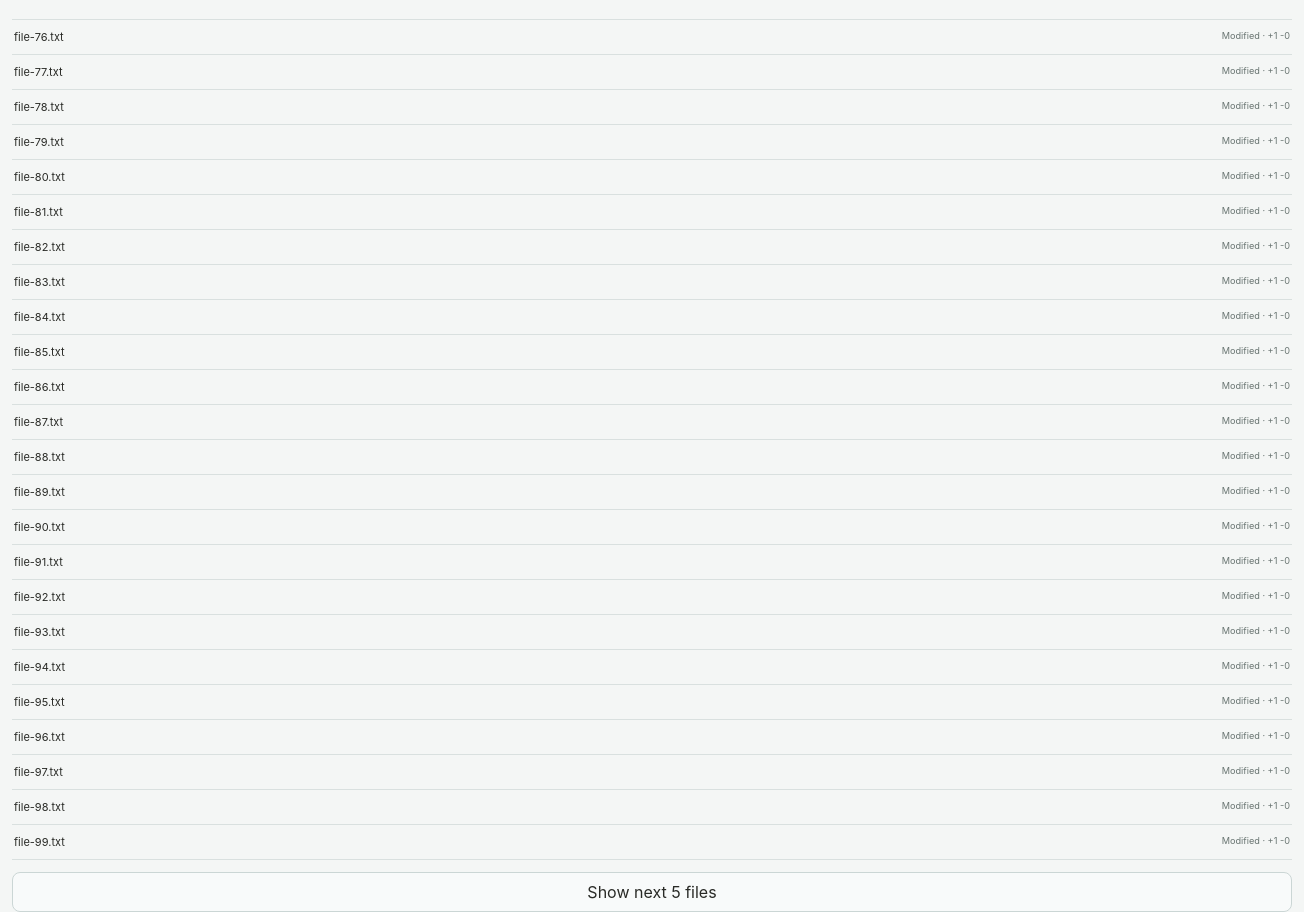
Test: ChangesPanel › renders large change sets in batches
The width and height of the screenshot is (1304, 912).
(page scrolled)
Expected: the text "file-99.txt" is shown, [14,835,65,849]
Expected: the text "file-104.txt" is not shown
Click the button "Show next 5 files" at (652, 892), box [12,872,1292,911]
(page scrolled)
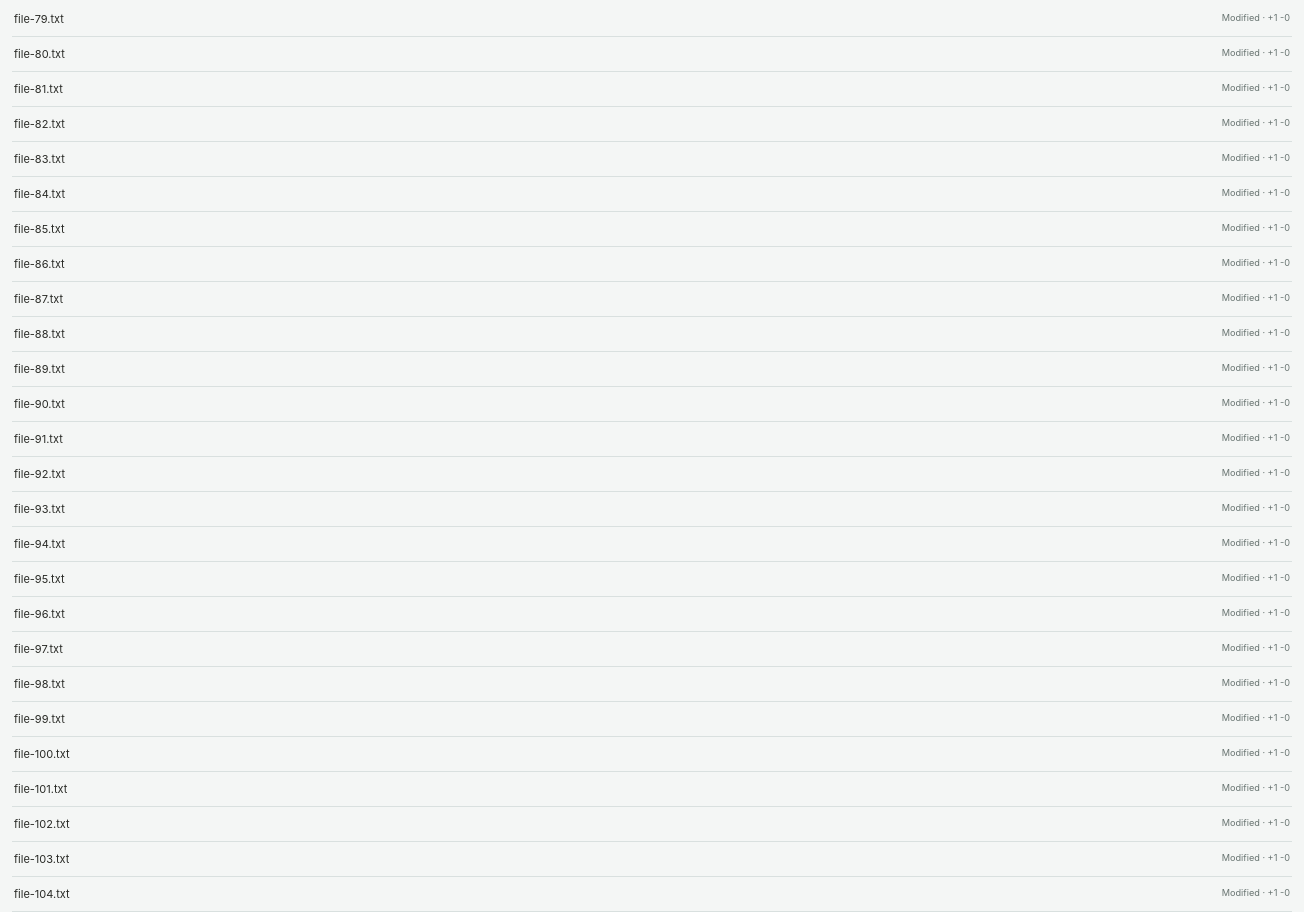
Now the text "file-104.txt" is shown, box [14,887,70,901]
